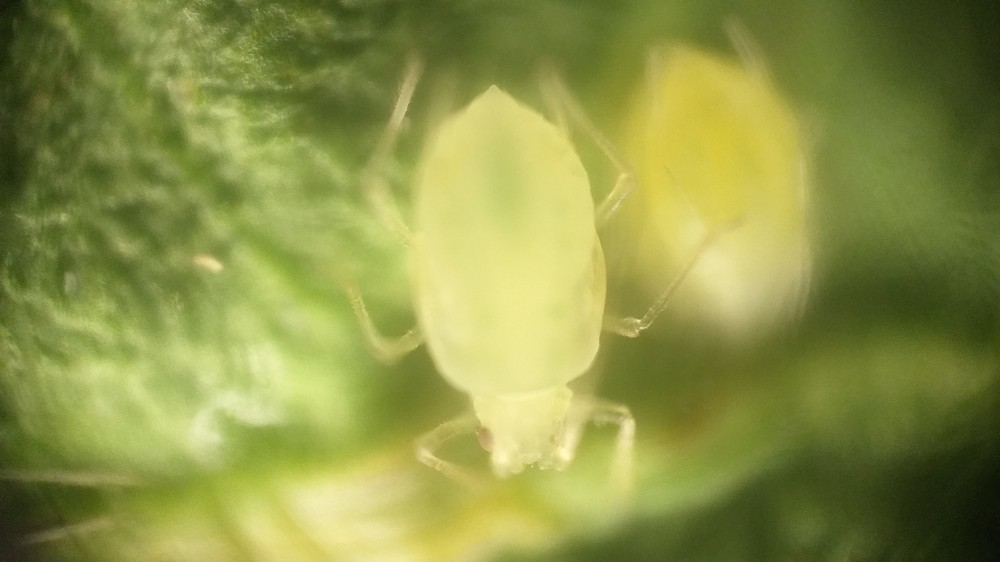Pulgon: (341, 50, 699, 542)
